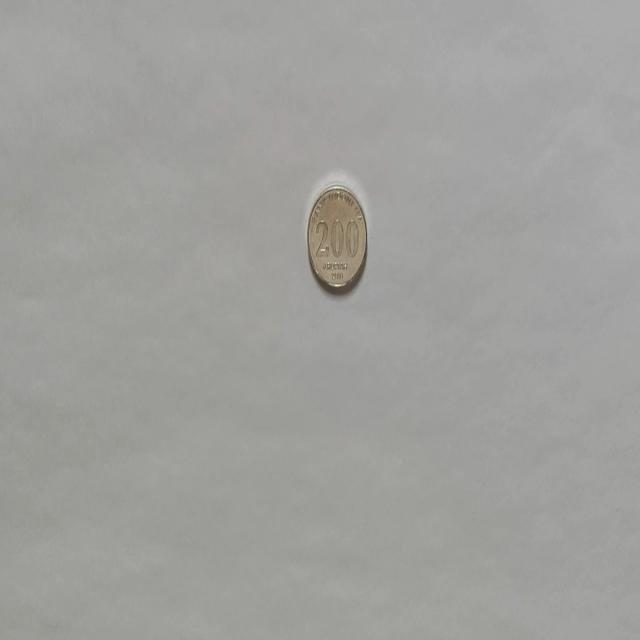dua ratus rupiah: (306, 183, 368, 291)
